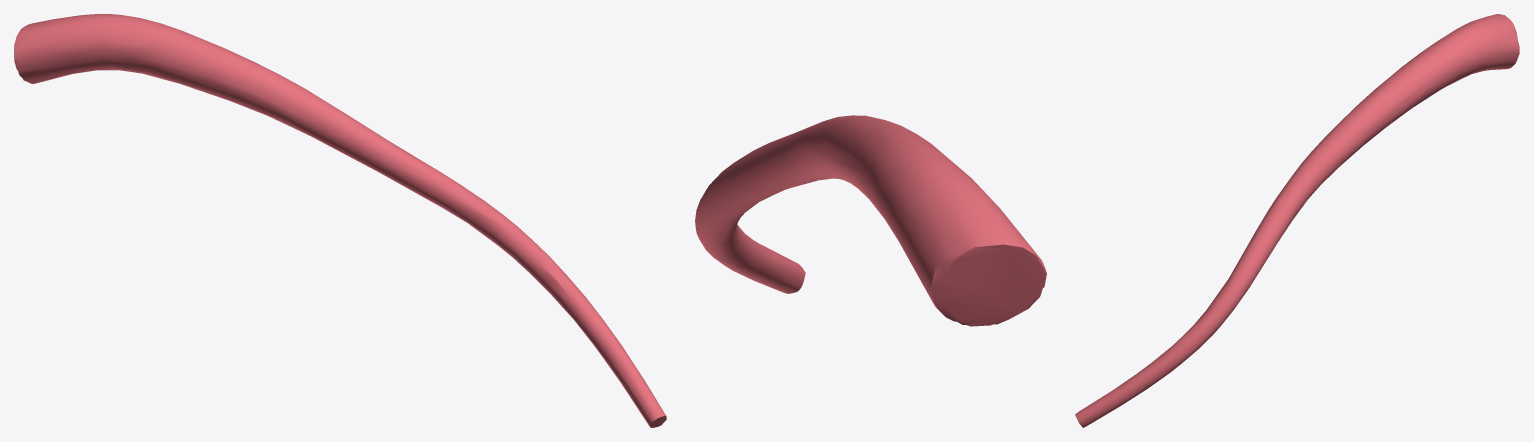
Rendered from fma8639_fj2898.glb.
The picture shows the model from 3 angles, left to right: view 1: azimuth 30°, elevation 25°; view 2: azimuth 150°, elevation 25°; view 3: azimuth 270°, elevation 25°; orthographic projection. The views are drawn at different scales.
Visible parts, largest first — view 1: FMA8639_FJ2898; view 2: FMA8639_FJ2898; view 3: FMA8639_FJ2898.
Boxes of the visible parts, x1=… form: FMA8639_FJ2898: x1=14, y1=14, x2=666, y2=427; FMA8639_FJ2898: x1=695, y1=115, x2=1046, y2=326; FMA8639_FJ2898: x1=1075, y1=14, x2=1519, y2=427.
Size of the model in its own units: 0.059 by 0.0445 by 0.0669.
